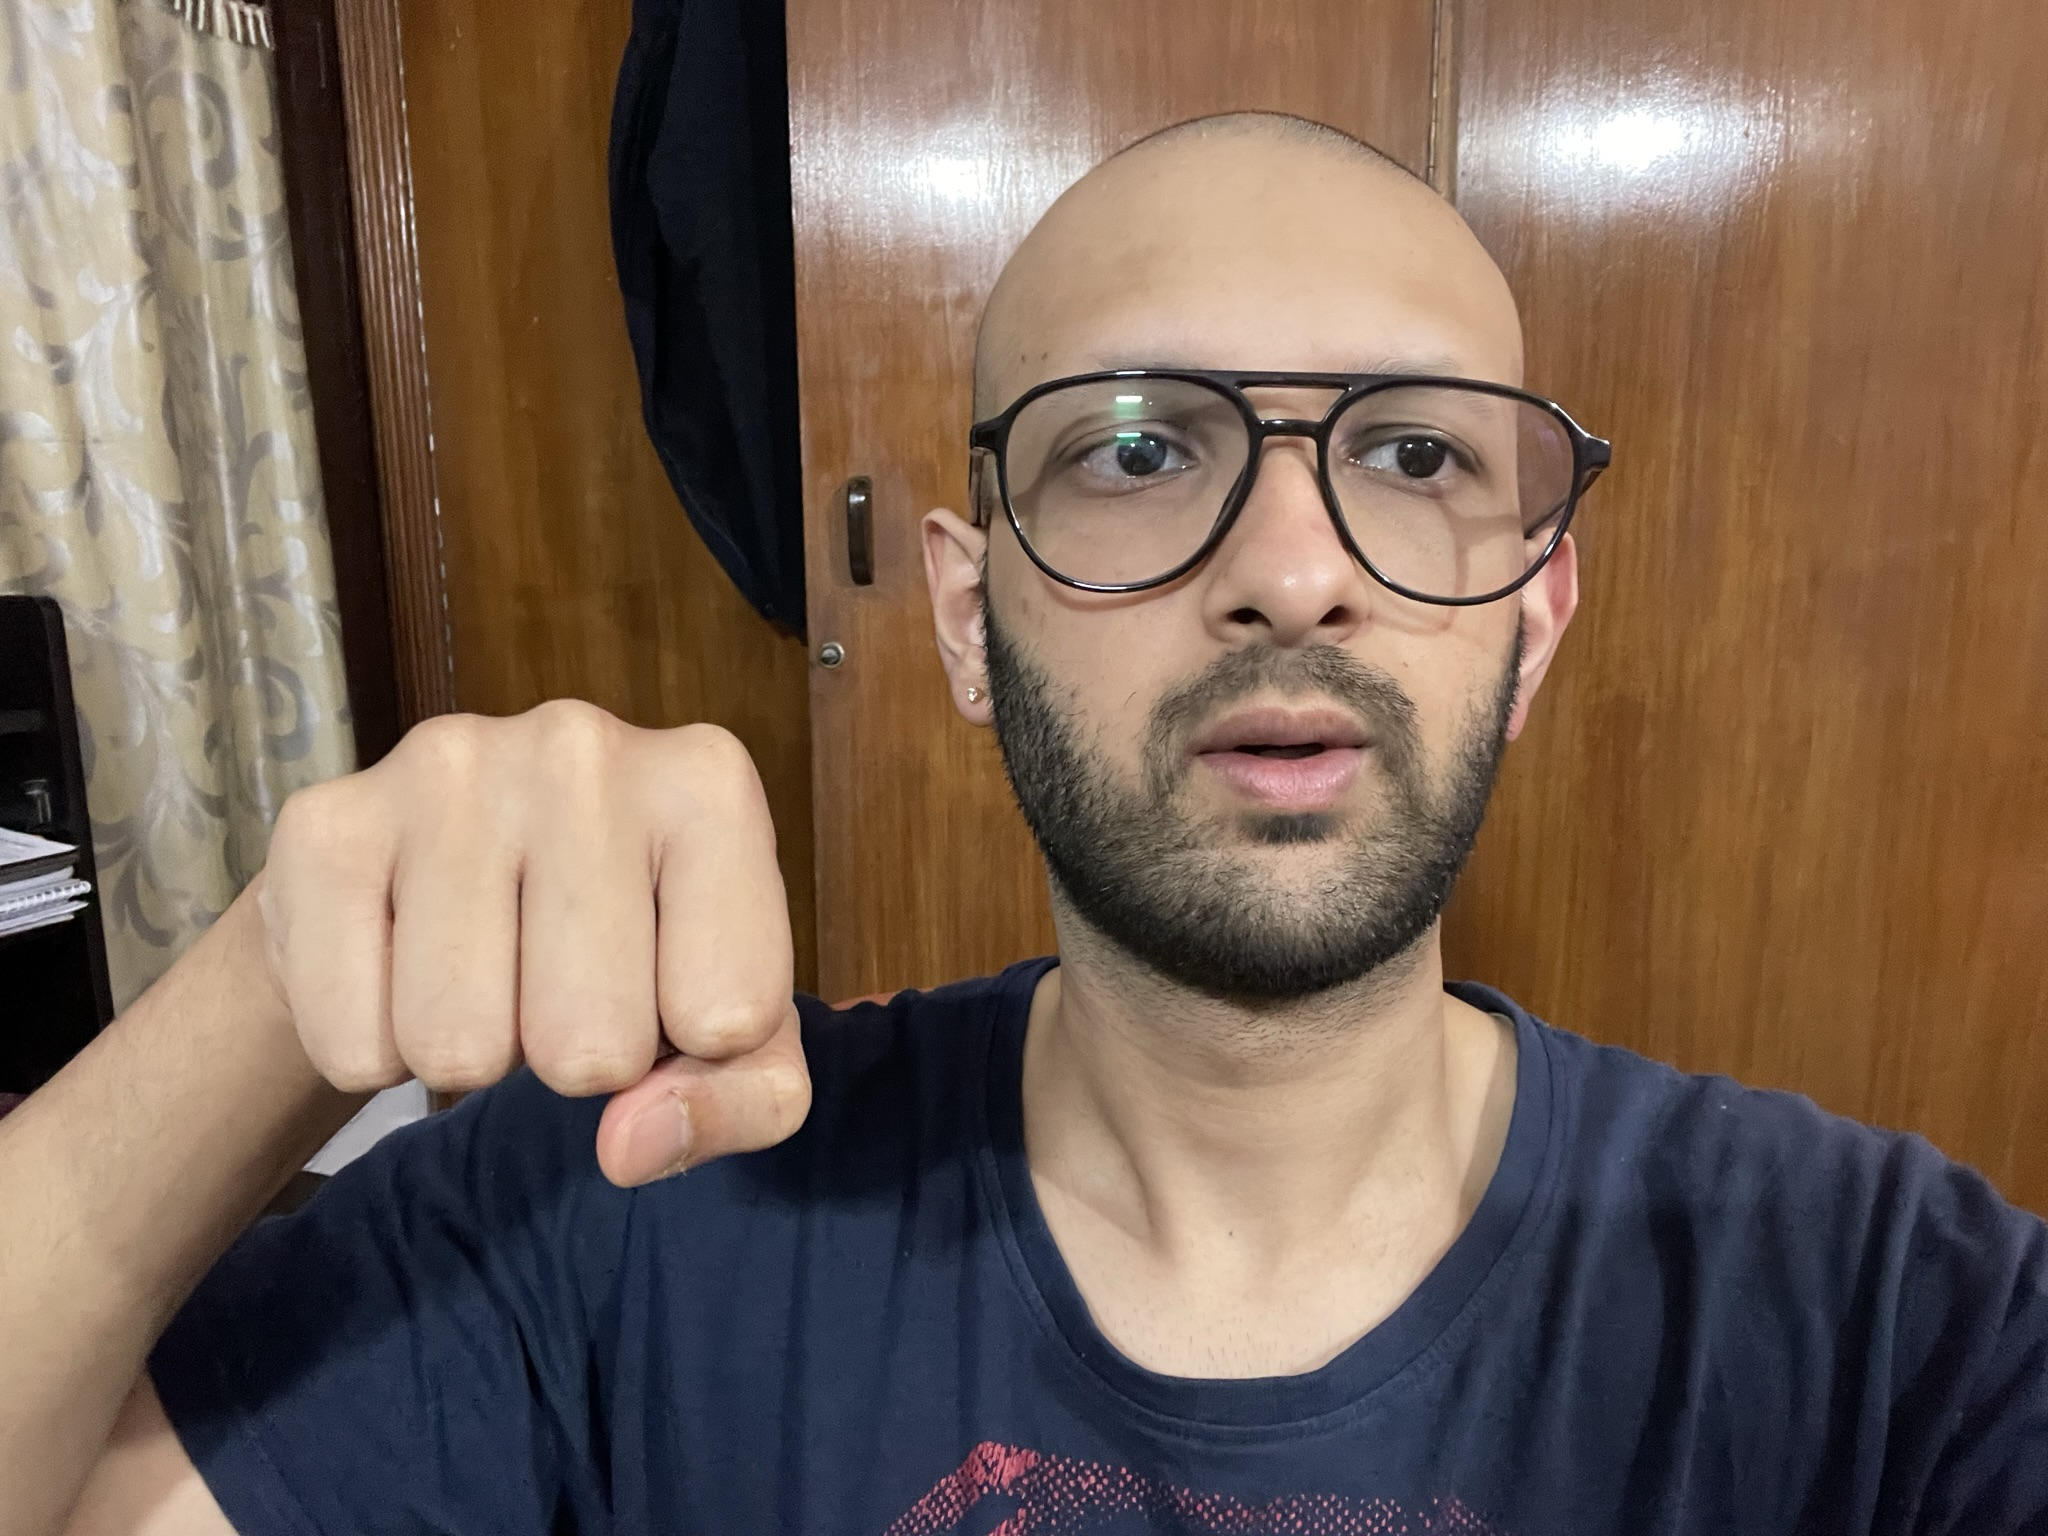Yes: (244, 676, 832, 1200)
